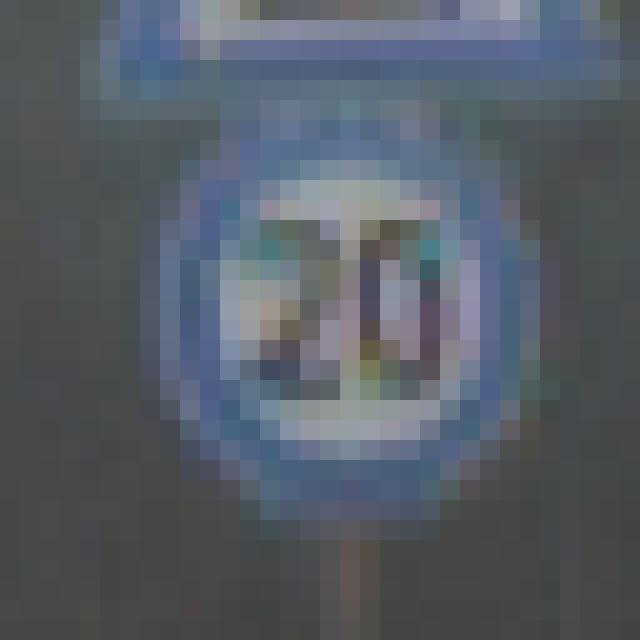SPEED LIMIT 20: (147, 133, 562, 495)
